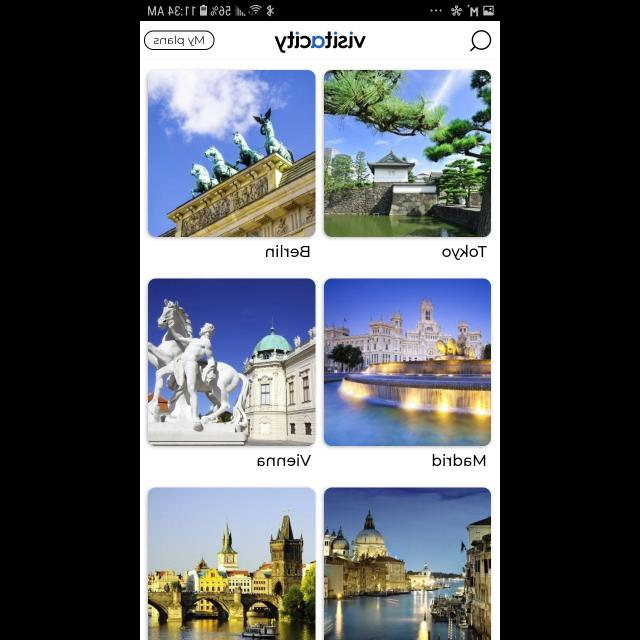icon: (469, 31, 491, 53)
image: (148, 70, 316, 238), (148, 278, 316, 446), (324, 70, 491, 238), (324, 278, 491, 446), (324, 487, 491, 640), (149, 487, 316, 640), (274, 32, 366, 52)
text: (442, 245, 486, 261), (257, 454, 311, 466), (432, 454, 486, 466), (266, 245, 310, 258)
textbutton: (144, 30, 214, 50)
uppertaskbar: (140, 1, 500, 22)
